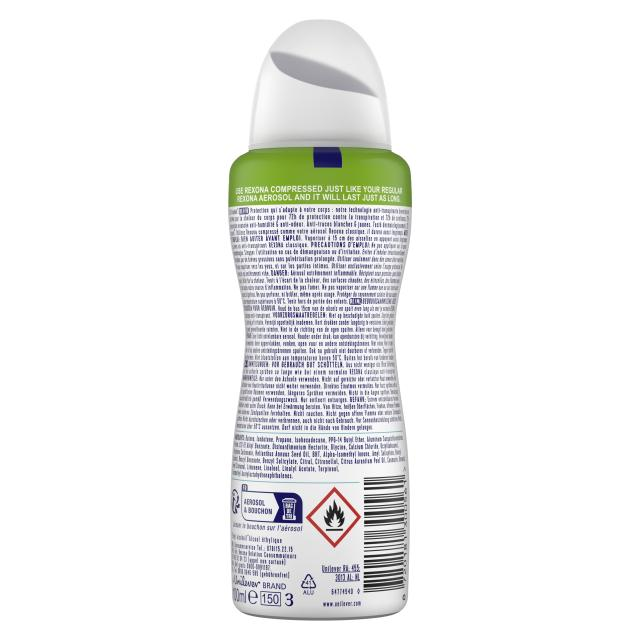GHS_Symbol_FLAME: (306, 486, 362, 549)
